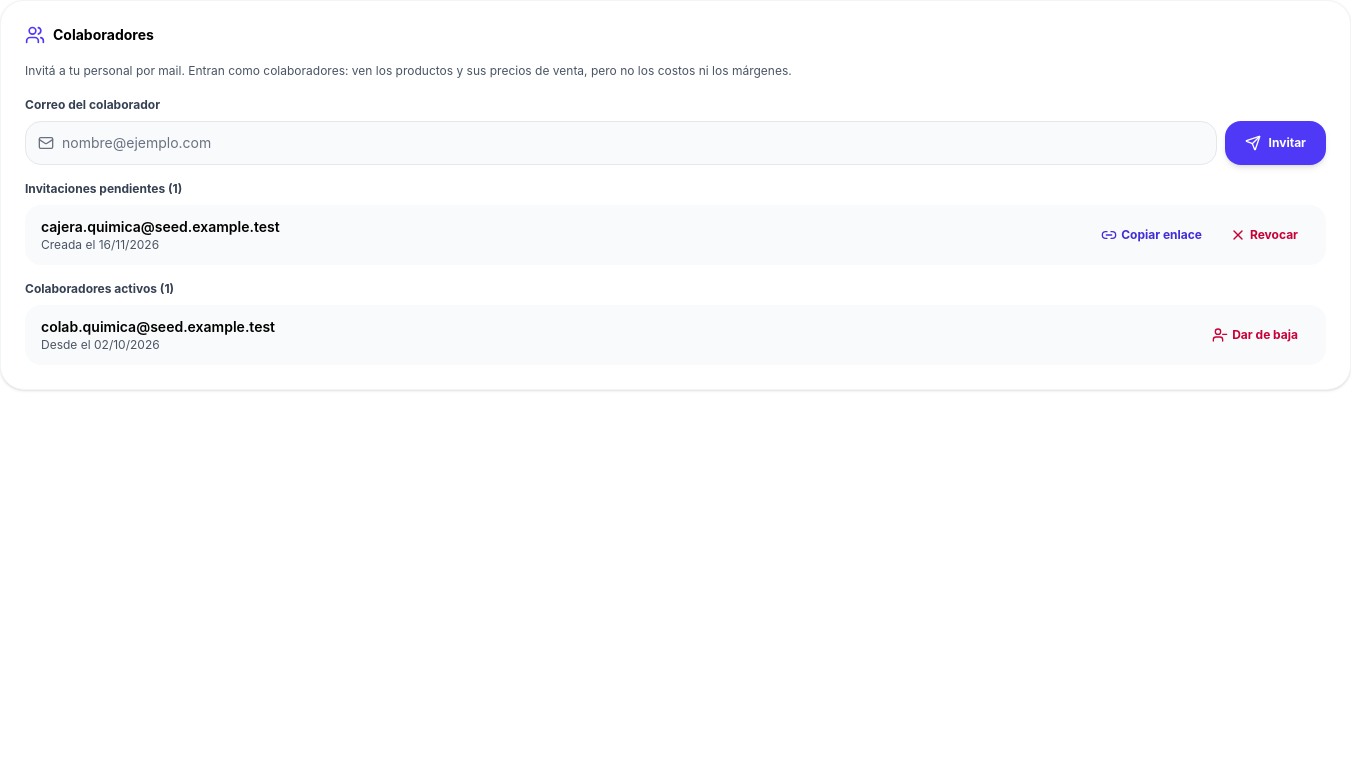
it: CollaboratorsSection (Perfil, solo ADMIN) › cancelar la confirmación no da de baja a nadie
Expected: the text "colab.quimica@seed.example.test" is shown, 41,318 -> 275,334
Click the button with aria-label "Dar de baja a colab.quimica@seed.example.test" at [1255, 334], box 1200,312 -> 1310,356
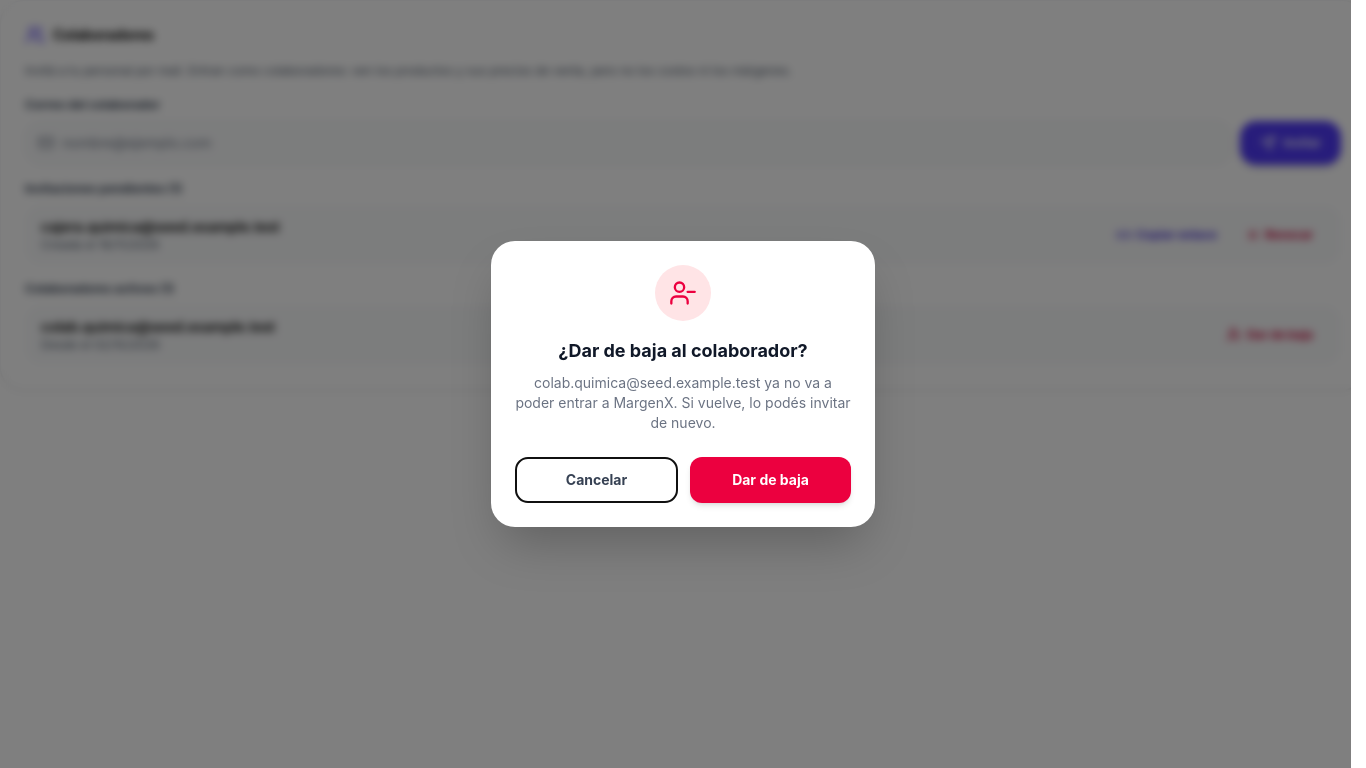
Click the button "Cancelar" at [596, 480], box 515,457 -> 678,503
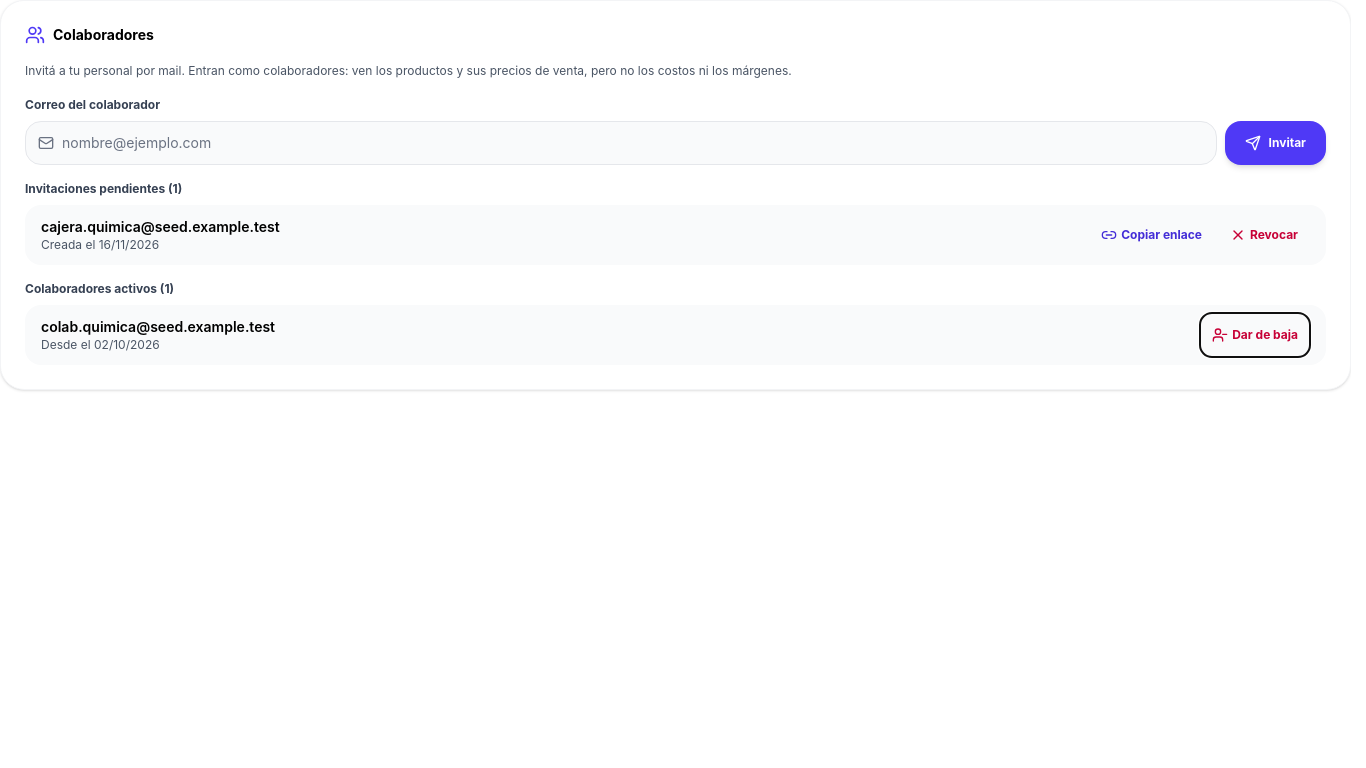
Expected: the dialog is gone
